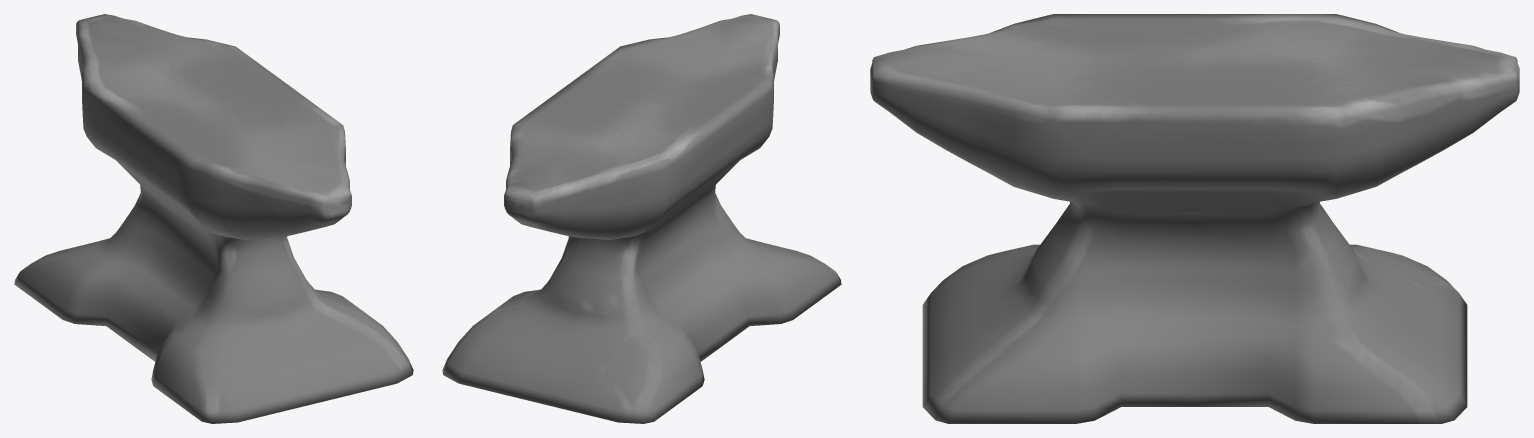
Rendered from Anvil.glb.
3 renders of one model, left to right at view 1: azimuth 30°, elevation 25°; view 2: azimuth 150°, elevation 25°; view 3: azimuth 270°, elevation 25°, orthographic. The views are drawn at different scales.
Parts seen in each view (by area): view 1: Cube; view 2: Cube; view 3: Cube.
Part boxes in pixels (x1,y1,x2,y2): Cube: (14,14,413,423); Cube: (442,14,841,423); Cube: (870,14,1519,423).
Size of the model in its own units: 1.37 by 1.38 by 2.77.
Materials: 1 (1 with a texture image).
